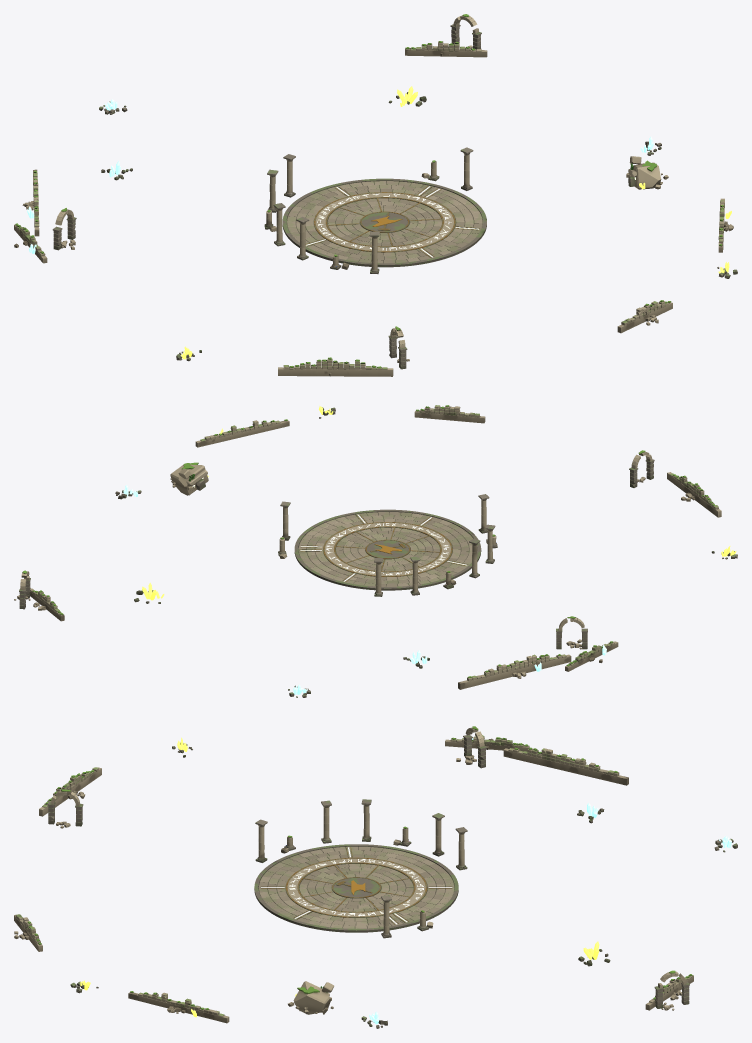
File: LOBBY_SN_03_TOWN_c47183.fbx
3 views of the same model, one above another, from view 1: azimuth 30°, elevation 25°; view 2: azimuth 150°, elevation 25°; view 3: azimuth 270°, elevation 25° (orthographic). The views are drawn at different scales.
Visible parts, largest first — view 1: WB_Town_Plaza__SNB_Plaza_1, WB_Town_Plaza_01__SNB_Plaza_2, WB_Prop_Ruins__SNB_Ruins_g15_15, WB_Prop_Ruins__SNB_Ruins_g15_16, WB_Prop_Ruins__SNB_Ruins_g16_16, WB_Prop_Ruins__SNB_Ruins_g16_15, WB_Prop_Ruins__SNB_Ruins_g16_14, WB_Town_Plaza_02__SN_Rune, WB_Prop_Ruins__SNB_Ruins_g16_17; view 2: WB_Town_Plaza__SNB_Plaza_1, WB_Town_Plaza_01__SNB_Plaza_2, WB_Prop_Ruins__SNB_Ruins_g15_16, WB_Prop_Ruins__SNB_Ruins_g16_15, WB_Prop_Ruins__SNB_Ruins_g15_15, WB_Prop_Ruins__SNB_Ruins_g16_16, WB_Prop_Ruins__SNB_Ruins_g16_14, WB_Town_Plaza_02__SN_Rune, WB_Prop_Ruins__SNB_Ruins_g16_17, WB_Prop_Ruins__SNB_Ruins_g14_16; view 3: WB_Town_Plaza__SNB_Plaza_1, WB_Town_Plaza_01__SNB_Plaza_2, WB_Prop_Ruins__SNB_Ruins_g15_16, WB_Prop_Ruins__SNB_Ruins_g16_15, WB_Prop_Ruins__SNB_Ruins_g15_15, WB_Prop_Ruins__SNB_Ruins_g16_16, WB_Town_Plaza_02__SN_Rune, WB_Prop_Ruins__SNB_Ruins_g14_16, WB_Prop_Ruins__SNB_Ruins_g16_17, WB_Prop_Ruins__SNB_Ruins_g16_14.
Boxes of the visible parts, x1=… form: WB_Town_Plaza__SNB_Plaza_1: x1=286, y1=181, x2=482, y2=263; WB_Town_Plaza_01__SNB_Plaza_2: x1=282, y1=178, x2=486, y2=267; WB_Prop_Ruins__SNB_Ruins_g15_15: x1=199, y1=216, x2=409, y2=376; WB_Prop_Ruins__SNB_Ruins_g15_16: x1=22, y1=101, x2=295, y2=361; WB_Prop_Ruins__SNB_Ruins_g16_16: x1=388, y1=15, x2=653, y2=190; WB_Prop_Ruins__SNB_Ruins_g16_15: x1=626, y1=141, x2=737, y2=301; WB_Prop_Ruins__SNB_Ruins_g16_14: x1=617, y1=300, x2=672, y2=333; WB_Town_Plaza_02__SN_Rune: x1=306, y1=186, x2=478, y2=257; WB_Prop_Ruins__SNB_Ruins_g16_17: x1=405, y1=14, x2=485, y2=55; WB_Town_Plaza__SNB_Plaza_1: x1=298, y1=512, x2=477, y2=586; WB_Town_Plaza_01__SNB_Plaza_2: x1=294, y1=509, x2=481, y2=590; WB_Prop_Ruins__SNB_Ruins_g15_16: x1=288, y1=538, x2=737, y2=697; WB_Prop_Ruins__SNB_Ruins_g16_15: x1=115, y1=407, x2=419, y2=499; WB_Prop_Ruins__SNB_Ruins_g15_15: x1=478, y1=450, x2=721, y2=563; WB_Prop_Ruins__SNB_Ruins_g16_16: x1=17, y1=490, x2=290, y2=615; WB_Prop_Ruins__SNB_Ruins_g16_14: x1=414, y1=405, x2=485, y2=423; WB_Town_Plaza_02__SN_Rune: x1=300, y1=514, x2=466, y2=581; WB_Prop_Ruins__SNB_Ruins_g16_17: x1=14, y1=571, x2=64, y2=621; WB_Prop_Ruins__SNB_Ruins_g14_16: x1=565, y1=631, x2=618, y2=671; WB_Town_Plaza__SNB_Plaza_1: x1=258, y1=846, x2=454, y2=928; WB_Town_Plaza_01__SNB_Plaza_2: x1=254, y1=844, x2=458, y2=932; WB_Prop_Ruins__SNB_Ruins_g15_16: x1=172, y1=726, x2=737, y2=870; WB_Prop_Ruins__SNB_Ruins_g16_15: x1=39, y1=943, x2=387, y2=1028; WB_Prop_Ruins__SNB_Ruins_g15_15: x1=39, y1=755, x2=331, y2=862; WB_Prop_Ruins__SNB_Ruins_g16_16: x1=361, y1=895, x2=691, y2=1021; WB_Town_Plaza_02__SN_Rune: x1=261, y1=847, x2=452, y2=924; WB_Prop_Ruins__SNB_Ruins_g14_16: x1=445, y1=735, x2=529, y2=751; WB_Prop_Ruins__SNB_Ruins_g16_17: x1=651, y1=970, x2=693, y2=1010; WB_Prop_Ruins__SNB_Ruins_g16_14: x1=14, y1=914, x2=42, y2=951.
Bounding box in the file's own units: 276 × 21.15 × 293.
Materials: 6 (3 with a texture image).
